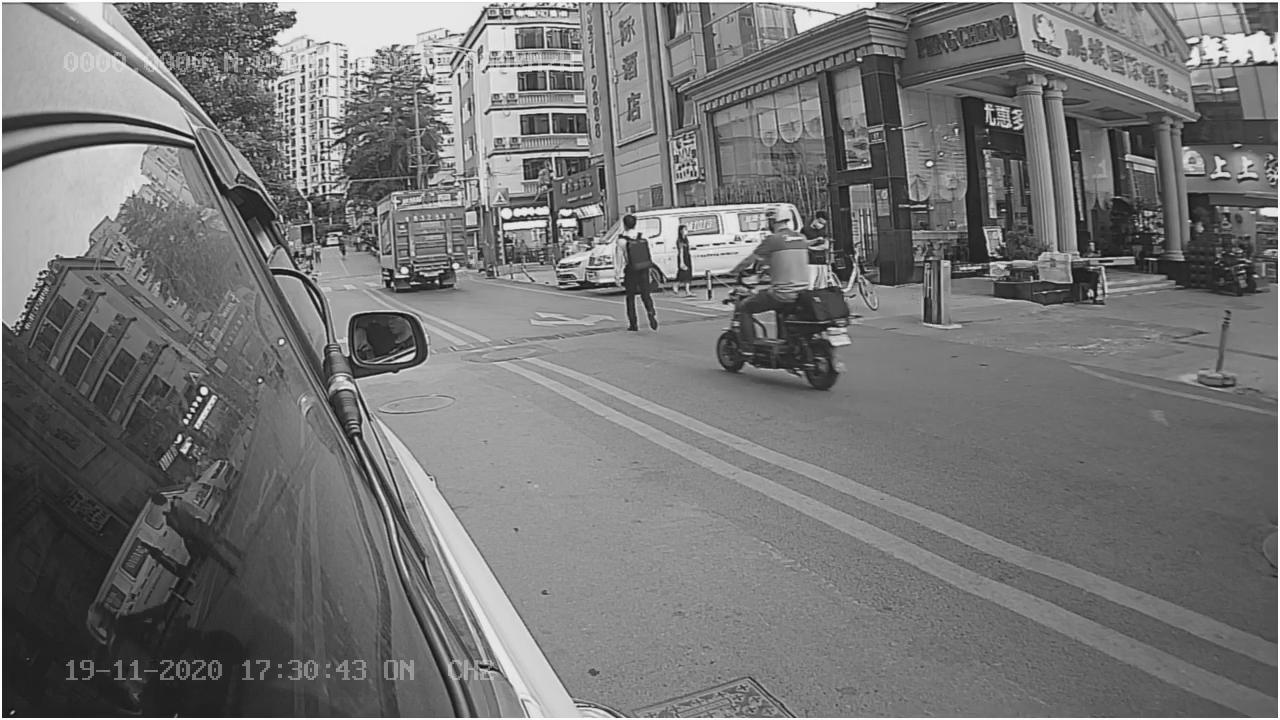person: (738, 201, 812, 280)
